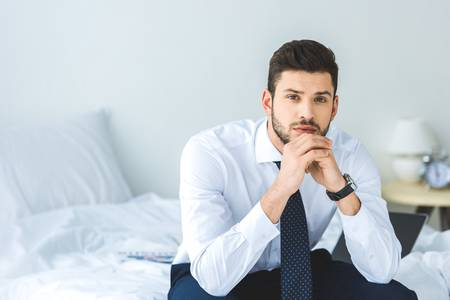F_shirt: (172, 115, 404, 296)
F_tie: (270, 155, 314, 298)
